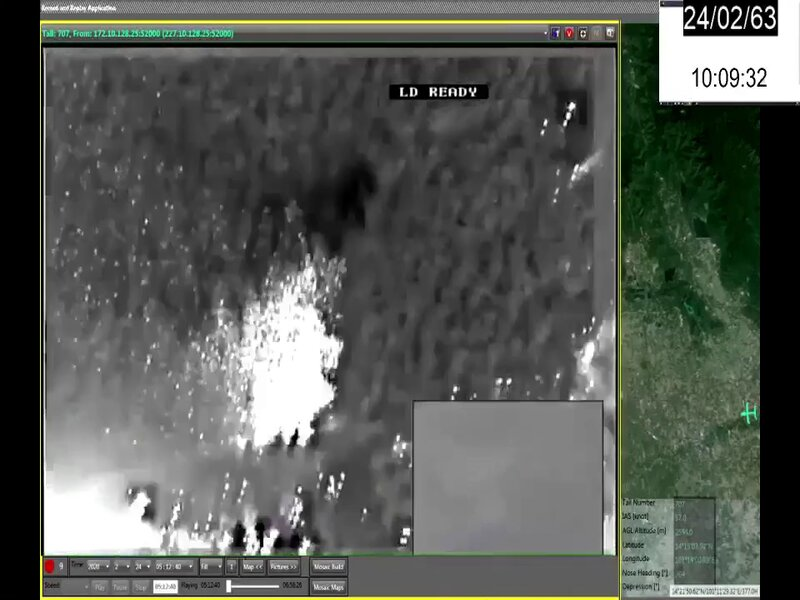Fire: (227, 255, 346, 452)
